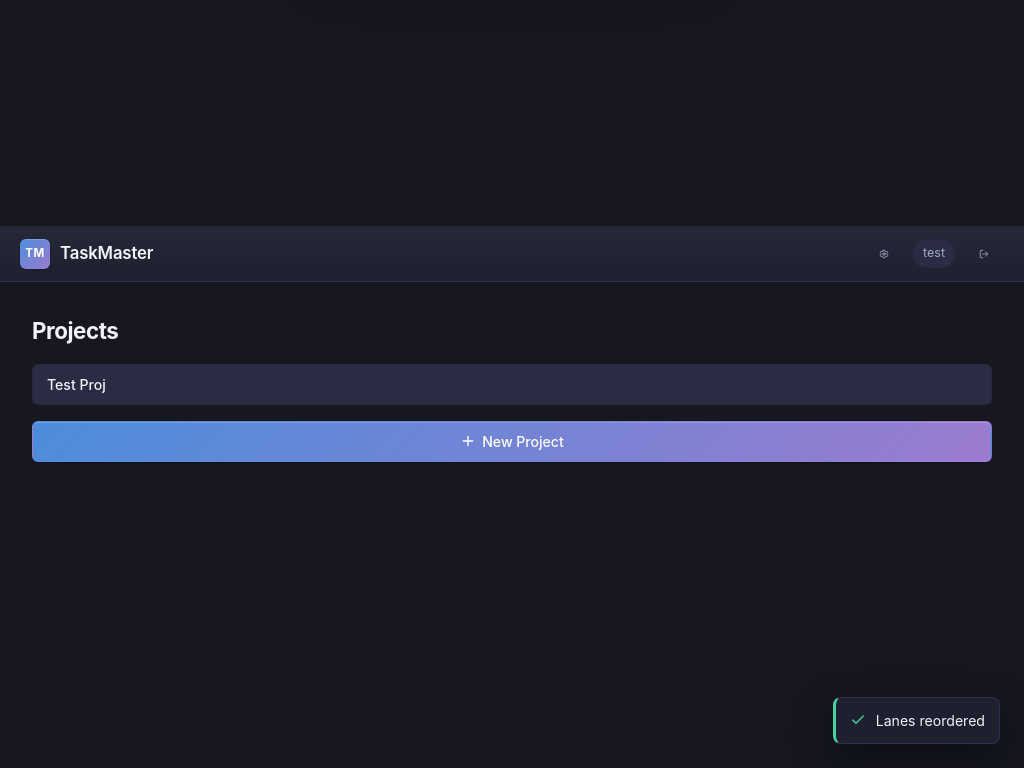
App › board shows error state for lane fetch failure
(page scrolled)
Step 1. Click the button "Test Proj" → click(76, 384), box 32,364 -> 992,405
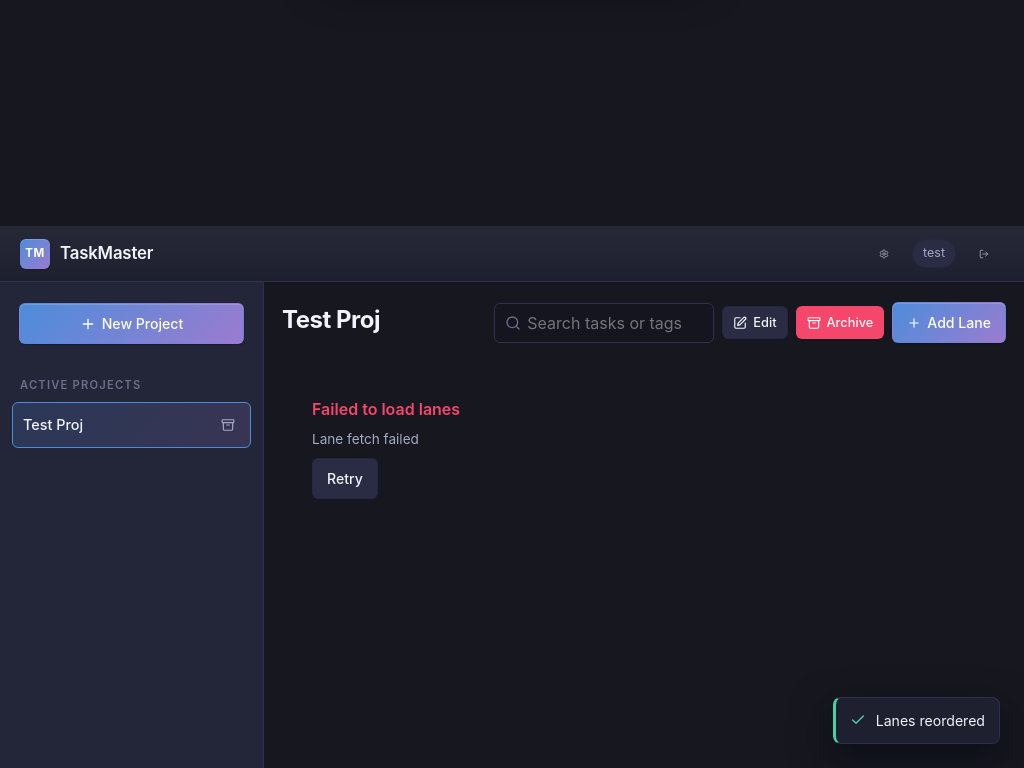
Now the text "Failed to load lanes" is shown, box 312,397 -> 460,421
Now the button "Retry" is shown, box 312,458 -> 378,499
